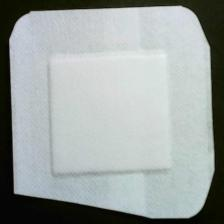Cut: (10, 5, 217, 220)
